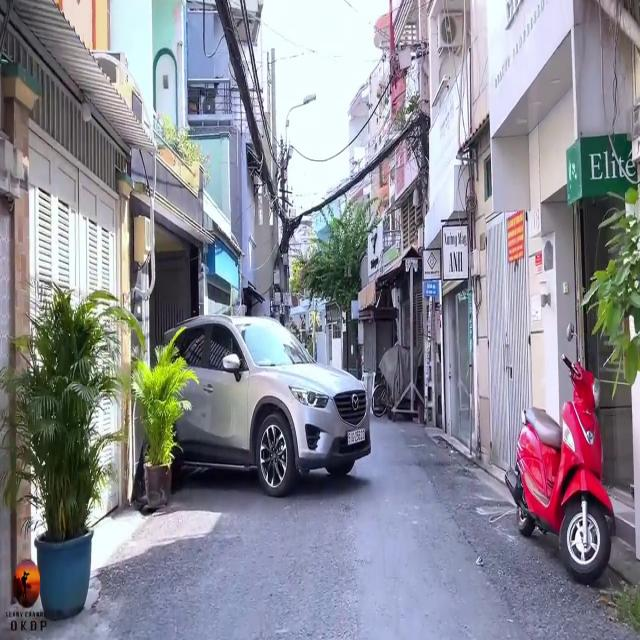bien_trang: (346, 428, 368, 445)
